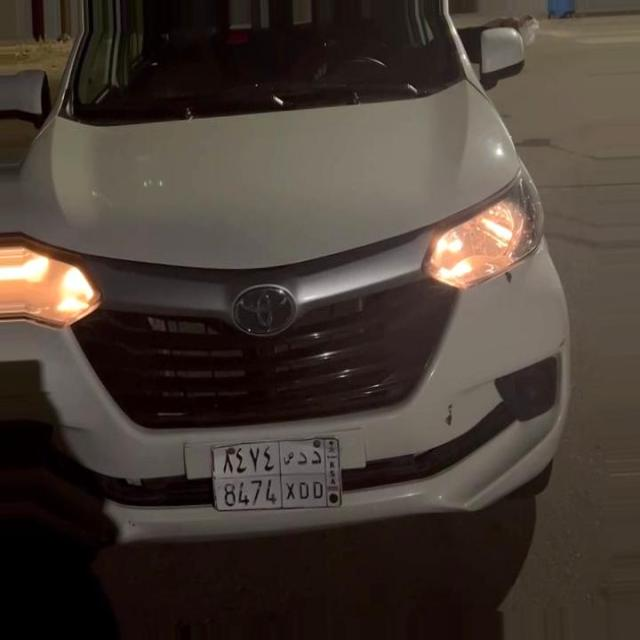Car-plate: (200, 415, 351, 524)
